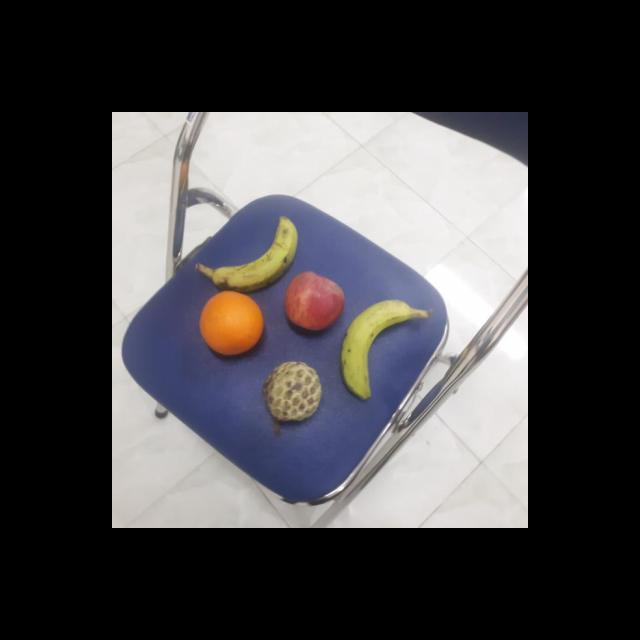Sakya fruit: (258, 361, 325, 422)
apple: (281, 270, 348, 332)
banana: (337, 298, 420, 402), (209, 211, 302, 293)
orange: (197, 290, 269, 360)
